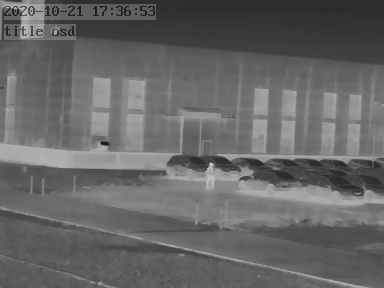person: (205, 162, 214, 188)
vehicle: (238, 169, 303, 195), (307, 173, 362, 200), (194, 154, 248, 179), (162, 153, 215, 177), (350, 173, 382, 200), (232, 154, 269, 171), (262, 155, 296, 170), (347, 156, 379, 170), (317, 156, 347, 170), (295, 155, 324, 169)
